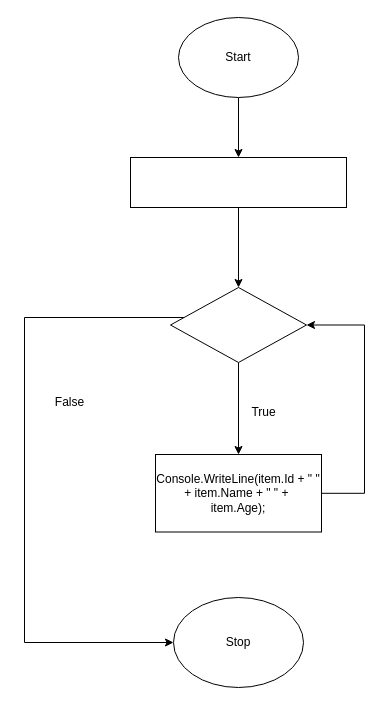
Image size: 390x705. Some labels were removed from this diagram. Here are the shapes that lost their labels. From the top down, the box of each, then its label:
(130, 156, 346, 208): var takeWhile = PeopleList.Peoples.TakeWhile(x => x.Age > 18);
(170, 286, 306, 362): foreach (var item in takeWhile)
